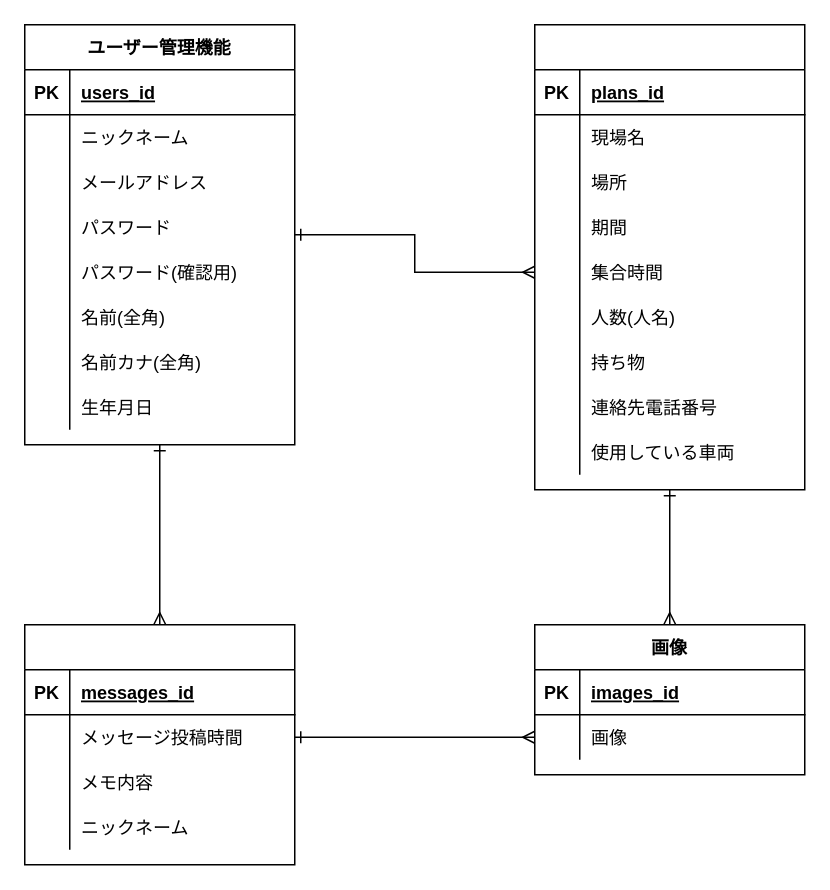
Some shapes in this 830 by 890 pixel diagram are drawn without their labels. The shapes that lost their labels are listed below. From the top down, each one's box as (x1, y1, x2, y2) in pixels, then its label:
(533, 23, 805, 490): 予定管理機能
(23, 623, 295, 865): メモチャット管理機能
